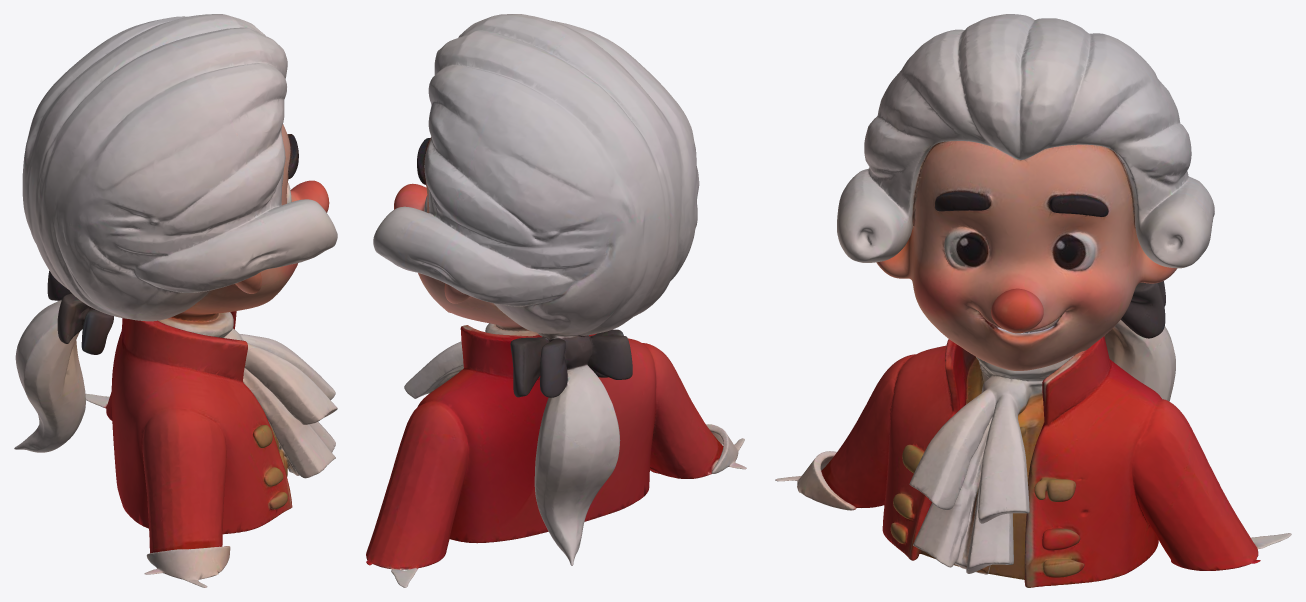
The model's file is composer_mozart.glb.
3 renders of one model, left to right at view 1: azimuth 30°, elevation 25°; view 2: azimuth 150°, elevation 25°; view 3: azimuth 270°, elevation 25°, orthographic. The views are drawn at different scales.
Parts seen in each view (by area): view 1: tripo_node_a753d1da-669a-4cf5-b78d-711138994afa; view 2: tripo_node_a753d1da-669a-4cf5-b78d-711138994afa; view 3: tripo_node_a753d1da-669a-4cf5-b78d-711138994afa.
Part boxes in pixels (x1=…): tripo_node_a753d1da-669a-4cf5-b78d-711138994afa: x1=14, y1=14, x2=337, y2=587; tripo_node_a753d1da-669a-4cf5-b78d-711138994afa: x1=366, y1=14, x2=746, y2=587; tripo_node_a753d1da-669a-4cf5-b78d-711138994afa: x1=775, y1=14, x2=1291, y2=587.
Size of the model in its own units: 0.6358 by 1 by 0.9251.
Materials: 1 (1 with a texture image).
